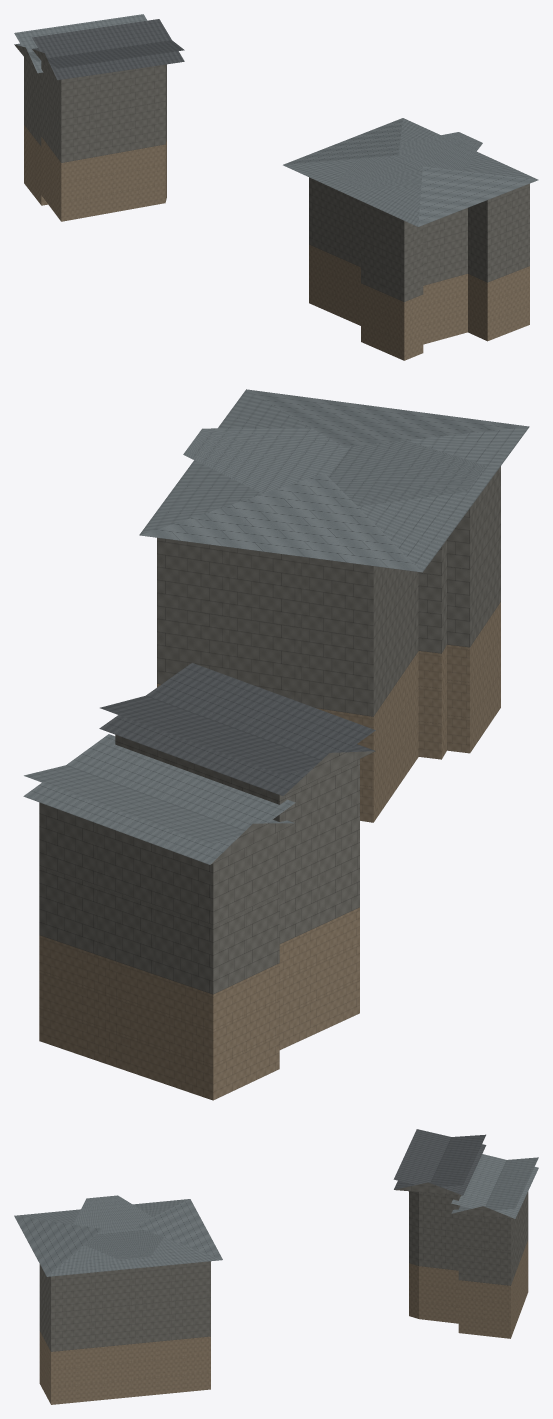
Rendered from bld_c9_25_410.gltf.
3 views of the same model, one above another, from view 1: azimuth 30°, elevation 25°; view 2: azimuth 150°, elevation 25°; view 3: azimuth 270°, elevation 25° (orthographic). The views are drawn at different scales.
Parts seen in each view (by area): view 1: bld_c9_25_410; view 2: bld_c9_25_410; view 3: bld_c9_25_410.
Boxes of the visible parts, box(x1,y1,x2,y2) form: bld_c9_25_410: box(14, 14, 538, 360); bld_c9_25_410: box(23, 389, 529, 1100); bld_c9_25_410: box(14, 1129, 538, 1404).
Bounding box in the file's own units: 25.18 × 15.1 × 45.8.
Materials: 5 (5 with a texture image).
